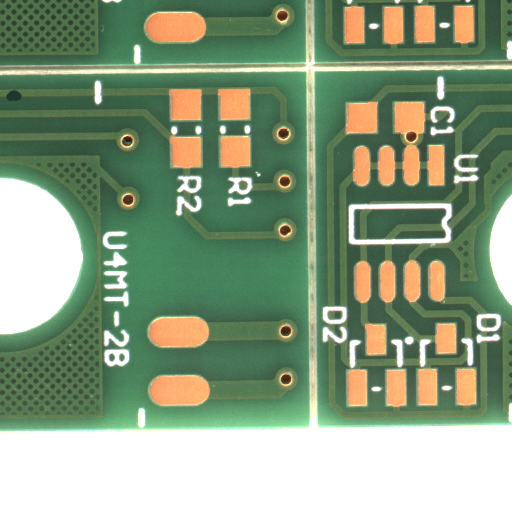Mouse_bite: (14, 95, 31, 108)
